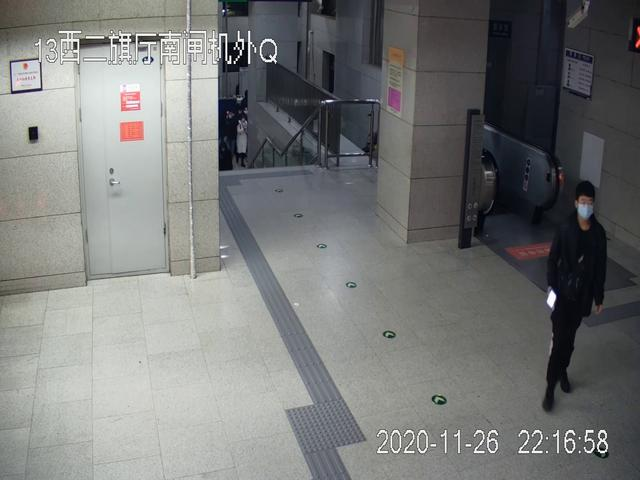person: (540, 180, 608, 410)
